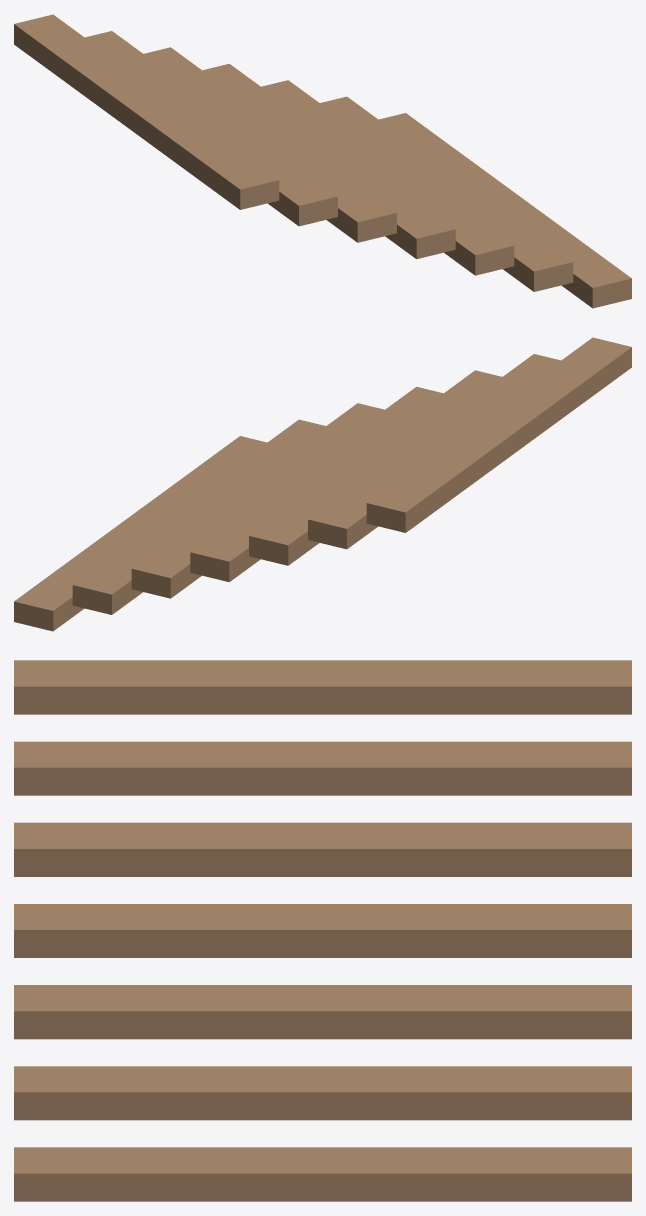
The picture shows the model from 3 angles, top to bottom: view 1: azimuth 30°, elevation 25°; view 2: azimuth 150°, elevation 25°; view 3: azimuth 270°, elevation 25°; orthographic projection. The views are drawn at different scales.
Parts seen in each view (by area): view 1: Cube.003; view 2: Cube.003; view 3: Cube.003.
Boxes of the visible parts, x1,y1,x2,y2 form: Cube.003: (14, 14, 631, 308); Cube.003: (14, 337, 631, 631); Cube.003: (14, 660, 631, 1201).
Size of the model in its own units: 2 by 1 by 2.
